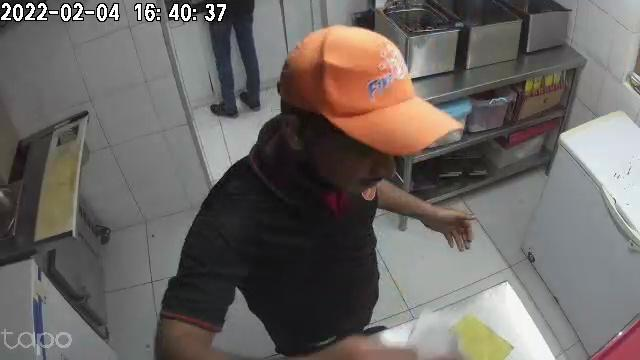no_gloves: (427, 206, 478, 253)
